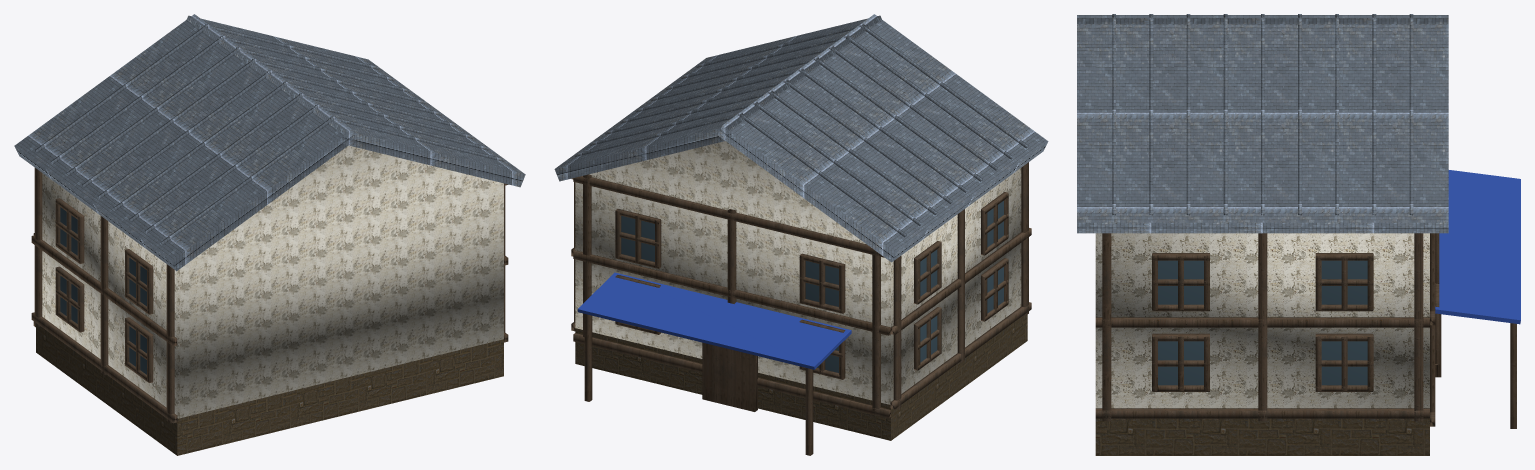
Rendered from house_blue.glb.
3 views of the same model, side by side, from view 1: azimuth 30°, elevation 25°; view 2: azimuth 150°, elevation 25°; view 3: azimuth 270°, elevation 25° (orthographic). The views are drawn at different scales.
Visible parts, largest first — view 1: house_blue; view 2: house_blue; view 3: house_blue.
Boxes of the visible parts, x1,y1,x2,y2 form: house_blue: [14, 14, 525, 455]; house_blue: [554, 14, 1048, 455]; house_blue: [1077, 14, 1520, 455].
Size of the model in its own units: 13.01 by 10.3 by 11.95.
Materials: 6 (5 with a texture image).
